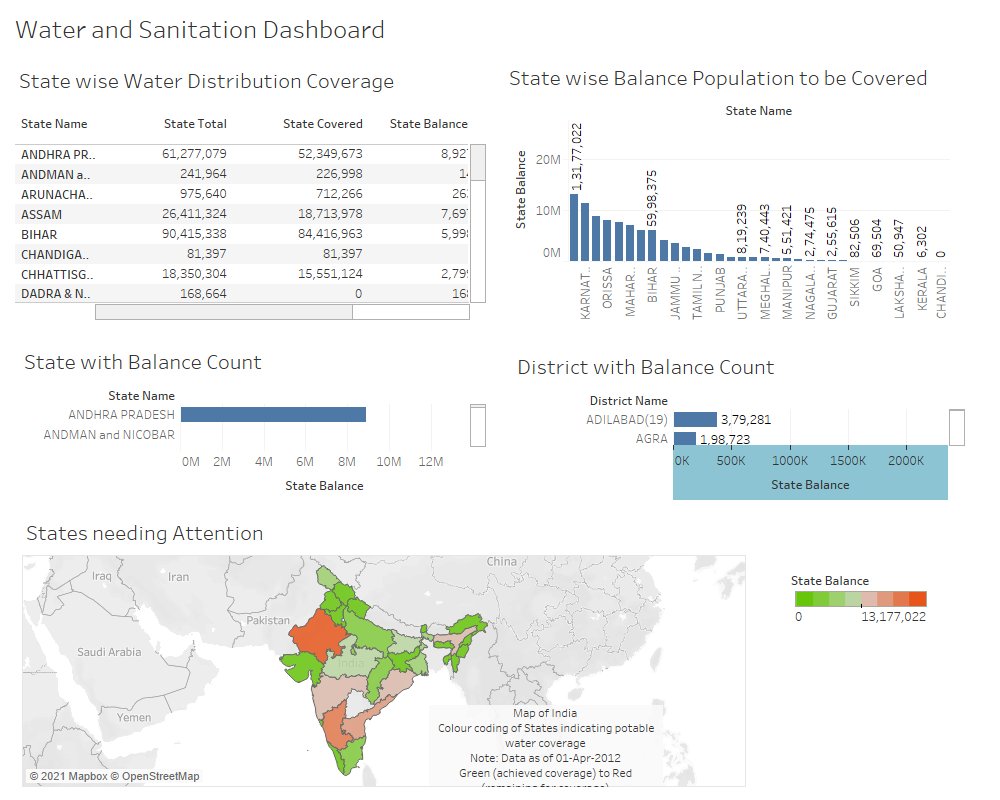

What the dashboard file says about the page in this screenshot:
{"tool":"tableau","page":{"name":"Water and Sanitation Dashboard","canvas":[1000,800],"ordinal":0},"visuals":[{"type":"worksheet","box":[0,0,1000,800]},{"type":"worksheet","param":"vert","box":[8,8,984,784]},{"type":"worksheet","box":[8,8,984,42]},{"type":"worksheet","title":"State wise Balance Population to be Covered","mark":"Automatic","rows":["Calculation_556476064260558850"],"cols":["State Name"],"box":[505,57,445,264]},{"type":"worksheet","title":"State wise Water Distribution Coverage","mark":"Automatic","rows":["State Name"],"box":[15,60,471,260]},{"type":"worksheet","title":"State with Balance Count","mark":"Automatic","rows":["State Name"],"cols":["Calculation_556476064260558850"],"box":[20,341,466,160]},{"type":"worksheet","title":"District with Balance Count","mark":"Automatic","rows":["District Name"],"cols":["Calculation_556476064260558850"],"box":[513,346,452,154]},{"type":"worksheet","title":"States needing Attention","mark":"Automatic","box":[22,512,724,275]},{"type":"worksheet","title":"States needing Attention","mark":"Automatic","param":"[federated.0a4ek2r1jz8fpm1fqd9fh0v89jwn].[sum:Calculation_556476064260558850:qk]","box":[791,568,140,76]}]}

Visuals, with their boxes in screenshot pixels (x1, y1, x2, y2), scaled from the page's 1000x800 canvas onto the 1000x800 screenshot:
worksheet: 0,0,999,799
worksheet: 8,8,992,792
worksheet: 8,8,992,50
"State wise Balance Population to be Covered" worksheet: 505,57,950,321
"State wise Water Distribution Coverage" worksheet: 15,60,486,320
"State with Balance Count" worksheet: 20,341,486,501
"District with Balance Count" worksheet: 513,346,965,500
"States needing Attention" worksheet: 22,512,746,787
"States needing Attention" worksheet: 791,568,931,644
